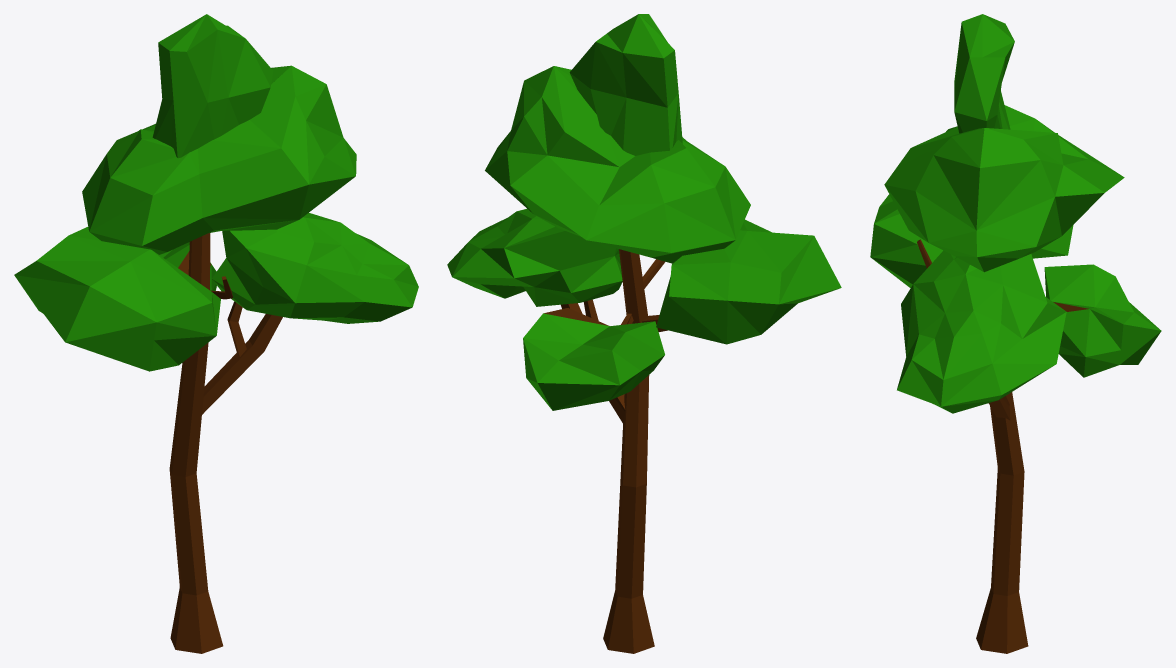
File: Tree_temp_climate_009.FBX
3 views of the same model, side by side, from view 1: azimuth 30°, elevation 25°; view 2: azimuth 150°, elevation 25°; view 3: azimuth 270°, elevation 25° (orthographic). The views are drawn at different scales.
Parts seen in each view (by area): view 1: Tree_temp_climate_009; view 2: Tree_temp_climate_009; view 3: Tree_temp_climate_009.
Part boxes in pixels (x1=…): Tree_temp_climate_009: x1=14, y1=14, x2=418, y2=653; Tree_temp_climate_009: x1=447, y1=14, x2=841, y2=653; Tree_temp_climate_009: x1=870, y1=14, x2=1161, y2=653.
Size of the model in its own units: 346 by 575 by 242.
